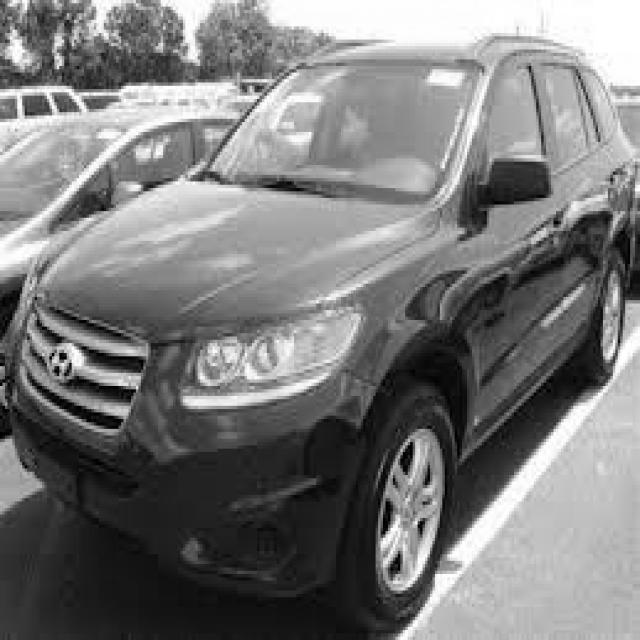car: (0, 30, 638, 630)
